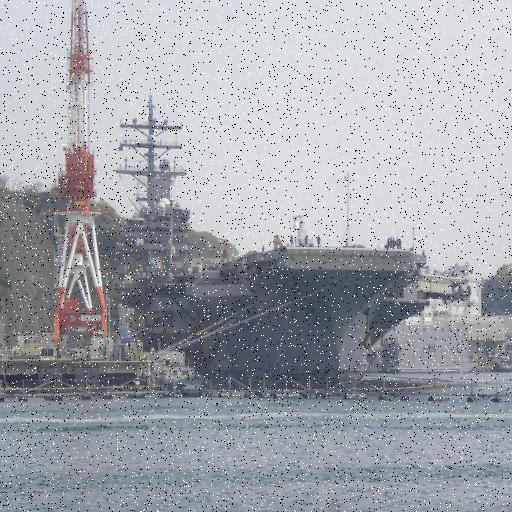Portanaves: (106, 88, 436, 392)
